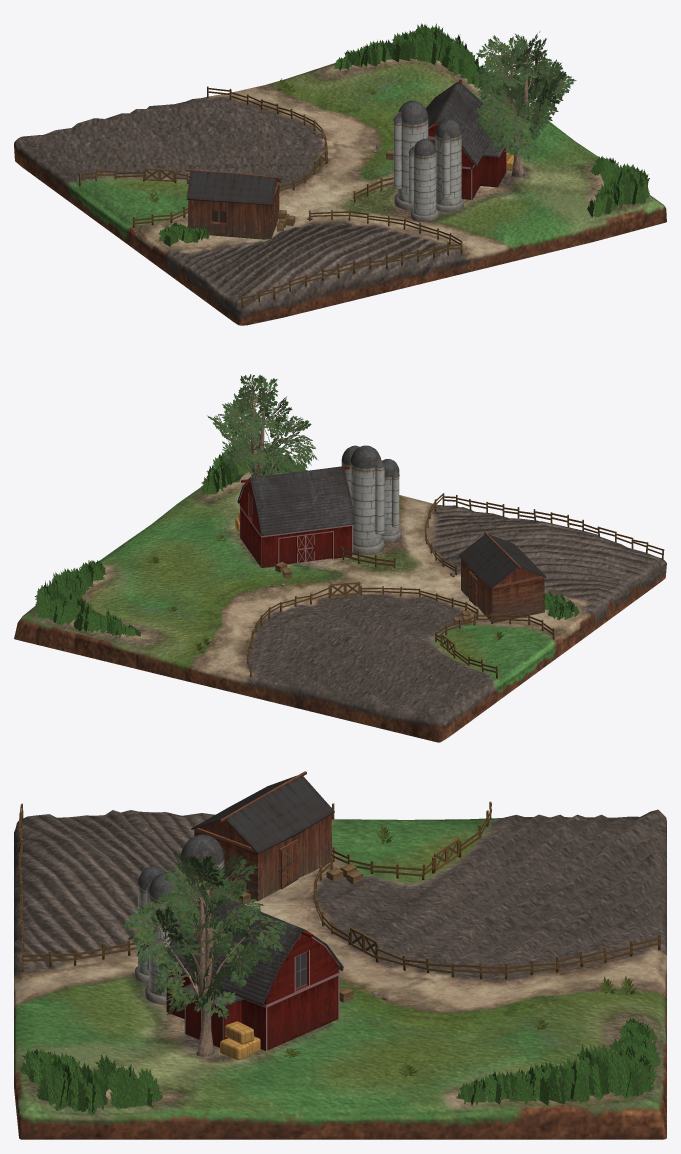
The model's file is FarmLandDiorama.gltf.
3 renders of one model, top to bottom at view 1: azimuth 30°, elevation 25°; view 2: azimuth 150°, elevation 25°; view 3: azimuth 270°, elevation 25°, orthographic. The views are drawn at different scales.
Visible parts, largest first — view 1: farm_land_diorama_a_Hero, farm_land_diorama_e_Hero, farm_land_diorama_b_Hero, farm_land_diorama_c_Hero, farm_land_diorama_d_Hero; view 2: farm_land_diorama_a_Hero, farm_land_diorama_b_Hero, farm_land_diorama_e_Hero, farm_land_diorama_d_Hero, farm_land_diorama_c_Hero; view 3: farm_land_diorama_a_Hero, farm_land_diorama_e_Hero, farm_land_diorama_b_Hero, farm_land_diorama_d_Hero, farm_land_diorama_c_Hero.
Part boxes in pixels (left/top/right/bottom): farm_land_diorama_a_Hero: left=14, top=51, right=666, bottom=325; farm_land_diorama_e_Hero: left=148, top=23, right=649, bottom=246; farm_land_diorama_b_Hero: left=185, top=79, right=507, bottom=239; farm_land_diorama_c_Hero: left=307, top=100, right=463, bottom=221; farm_land_diorama_d_Hero: left=79, top=86, right=513, bottom=307; farm_land_diorama_a_Hero: left=14, top=471, right=666, bottom=742; farm_land_diorama_b_Hero: left=237, top=466, right=546, bottom=623; farm_land_diorama_e_Hero: left=34, top=374, right=579, bottom=651; farm_land_diorama_d_Hero: left=235, top=493, right=664, bottom=678; farm_land_diorama_c_Hero: left=271, top=445, right=454, bottom=587; farm_land_diorama_a_Hero: left=14, top=809, right=666, bottom=1139; farm_land_diorama_e_Hero: left=19, top=824, right=660, bottom=1115; farm_land_diorama_b_Hero: left=161, top=771, right=343, bottom=1050; farm_land_diorama_d_Hero: left=18, top=801, right=660, bottom=1060; farm_land_diorama_c_Hero: left=135, top=834, right=388, bottom=1005.
Size of the model in its own units: 1.39 by 0.5486 by 1.28.
5 materials, 5 textured.
